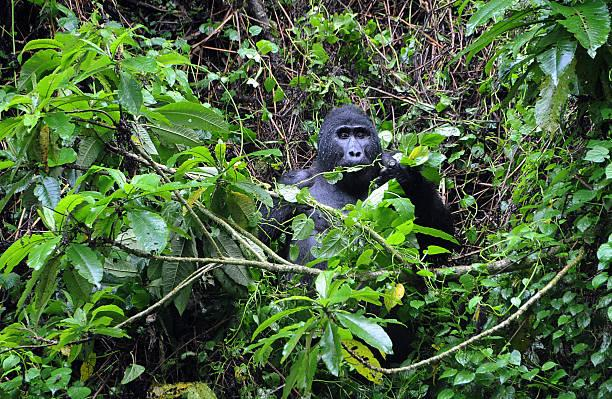goriile_montagne: (262, 93, 449, 325)
